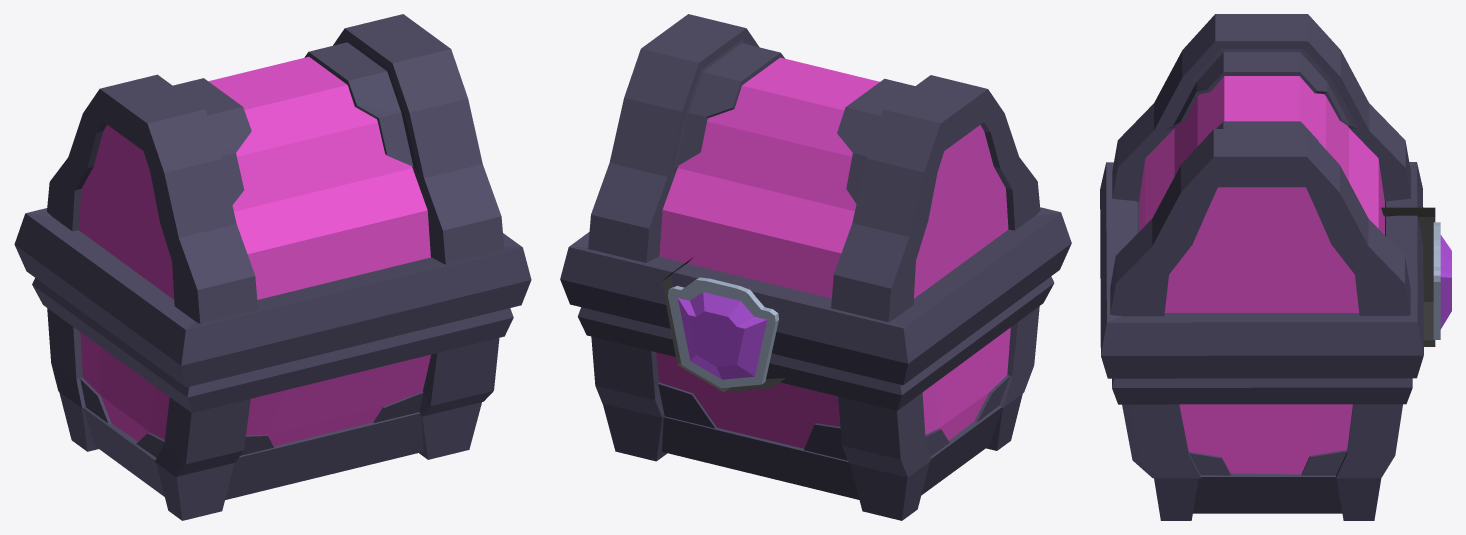
File: chest.glb
The picture shows the model from 3 angles, left to right: view 1: azimuth 30°, elevation 25°; view 2: azimuth 150°, elevation 25°; view 3: azimuth 270°, elevation 25°; orthographic projection. The views are drawn at different scales.
Visible parts, largest first — view 1: Cube.009, Cube, Torus, Torus.002, Torus.001, Cube.005, Cube.003, Cube.004, Cube.002; view 2: Cube.009, Cube, Torus, Torus.002, Cube.010, Torus.001, Cube.005, Cube.006, Cube.007, Cube.002, Cube.001, Cube.008 (+1 smaller); view 3: Cube.009, Cube, Torus, Torus.002, Torus.001, Cube.005, Cube.008, Cube.004, Cube.001, Cube.010, Cube.006, Cube.007.
Part boxes in pixels (x1,y1,x2,y2): Cube.009: (47, 14, 504, 323); Cube: (79, 56, 430, 299); Torus: (14, 208, 531, 387); Torus.002: (32, 278, 513, 476); Torus.001: (80, 332, 430, 446); Cube.005: (83, 407, 423, 499); Cube.003: (156, 463, 234, 520); Cube.004: (419, 402, 481, 459); Cube.002: (59, 392, 98, 451); Cube.009: (588, 14, 1040, 322); Cube: (659, 57, 1008, 298); Torus: (560, 207, 1071, 385); Torus.002: (577, 276, 1054, 477); Cube.010: (660, 121, 856, 278); Torus.001: (656, 327, 1010, 448); Cube.005: (662, 405, 1002, 499); Cube.006: (678, 292, 766, 379); Cube.007: (668, 277, 778, 388); Cube.002: (850, 461, 929, 520); Cube.001: (603, 403, 667, 461); Cube.008: (662, 257, 784, 392); Cube.009: (1110, 14, 1410, 316); Cube: (1139, 76, 1384, 312); Torus: (1100, 162, 1423, 378); Torus.002: (1112, 378, 1412, 478); Torus.001: (1179, 404, 1352, 474); Cube.005: (1193, 473, 1342, 513); Cube.008: (1381, 207, 1435, 346); Cube.004: (1154, 478, 1198, 520); Cube.001: (1336, 478, 1381, 520); Cube.010: (1326, 96, 1382, 232); Cube.006: (1440, 235, 1451, 329); Cube.007: (1433, 222, 1440, 339).
Size of the model in its own units: 1.93 by 1.98 by 1.72.
